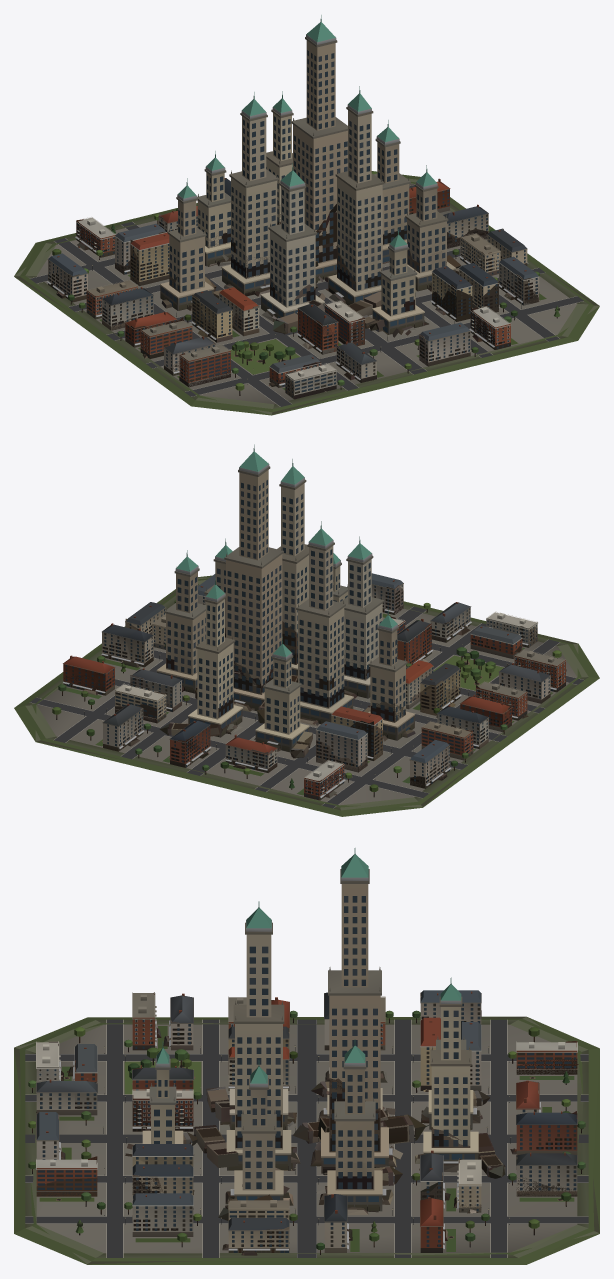
Rendered from city_ww1_metropolis_fractured.glb.
3 renders of one model, top to bottom at view 1: azimuth 30°, elevation 25°; view 2: azimuth 150°, elevation 25°; view 3: azimuth 270°, elevation 25°, orthographic. The views are drawn at different scales.
Visible parts, largest first — view 1: city_ww1_metropolis_DMG_mesh, city_ww1_metropolis_FRAC_static_mesh, city_ww1_metropolis_RUIN_LOD0_mesh, city_ww1_metropolis_RUIN_LOD2_mesh, city_ww1_metropolis_FRAC_01_mesh, city_ww1_metropolis_FRAC_34_mesh, city_ww1_metropolis_RUIN_LOD1_mesh, city_ww1_metropolis_FRAC_07_mesh, city_ww1_metropolis_FRAC_02_mesh, city_ww1_metropolis_FRAC_38_mesh, city_ww1_metropolis_FRAC_24_mesh, city_ww1_metropolis_FRAC_06_mesh (+25 smaller); view 2: city_ww1_metropolis_DMG_mesh, city_ww1_metropolis_FRAC_static_mesh, city_ww1_metropolis_RUIN_LOD0_mesh, city_ww1_metropolis_RUIN_LOD2_mesh, city_ww1_metropolis_FRAC_01_mesh, city_ww1_metropolis_FRAC_00_mesh, city_ww1_metropolis_FRAC_02_mesh, city_ww1_metropolis_FRAC_24_mesh, city_ww1_metropolis_RUIN_LOD1_mesh, city_ww1_metropolis_FRAC_29_mesh, city_ww1_metropolis_FRAC_27_mesh, city_ww1_metropolis_FRAC_04_mesh (+26 smaller); view 3: city_ww1_metropolis_FRAC_static_mesh, city_ww1_metropolis_DMG_mesh, city_ww1_metropolis_RUIN_LOD0_mesh, city_ww1_metropolis_RUIN_LOD2_mesh, city_ww1_metropolis_FRAC_01_mesh, city_ww1_metropolis_FRAC_38_mesh, city_ww1_metropolis_FRAC_07_mesh, city_ww1_metropolis_RUIN_LOD1_mesh, city_ww1_metropolis_FRAC_02_mesh, city_ww1_metropolis_FRAC_34_mesh, city_ww1_metropolis_FRAC_18_mesh, city_ww1_metropolis_FRAC_27_mesh (+22 smaller).
Part boxes in pixels (bbox=[...]): city_ww1_metropolis_DMG_mesh: bbox=[49, 91, 560, 399]; city_ww1_metropolis_FRAC_static_mesh: bbox=[14, 175, 599, 415]; city_ww1_metropolis_RUIN_LOD0_mesh: bbox=[20, 175, 593, 412]; city_ww1_metropolis_RUIN_LOD2_mesh: bbox=[14, 171, 599, 414]; city_ww1_metropolis_FRAC_01_mesh: bbox=[279, 95, 388, 204]; city_ww1_metropolis_FRAC_34_mesh: bbox=[428, 280, 557, 362]; city_ww1_metropolis_RUIN_LOD1_mesh: bbox=[57, 205, 529, 395]; city_ww1_metropolis_FRAC_07_mesh: bbox=[335, 170, 384, 244]; city_ww1_metropolis_FRAC_02_mesh: bbox=[305, 15, 337, 123]; city_ww1_metropolis_FRAC_38_mesh: bbox=[447, 204, 528, 272]; city_ww1_metropolis_FRAC_24_mesh: bbox=[140, 319, 238, 382]; city_ww1_metropolis_FRAC_06_mesh: bbox=[327, 230, 382, 305]; city_ww1_metropolis_DMG_mesh: bbox=[52, 521, 566, 800]; city_ww1_metropolis_FRAC_static_mesh: bbox=[14, 584, 599, 816]; city_ww1_metropolis_RUIN_LOD0_mesh: bbox=[17, 578, 596, 815]; city_ww1_metropolis_RUIN_LOD2_mesh: bbox=[15, 575, 599, 816]; city_ww1_metropolis_FRAC_01_mesh: bbox=[187, 545, 283, 634]; city_ww1_metropolis_FRAC_00_mesh: bbox=[226, 619, 282, 710]; city_ww1_metropolis_FRAC_02_mesh: bbox=[238, 444, 270, 552]; city_ww1_metropolis_FRAC_24_mesh: bbox=[475, 651, 565, 720]; city_ww1_metropolis_RUIN_LOD1_mesh: bbox=[57, 589, 537, 800]; city_ww1_metropolis_FRAC_29_mesh: bbox=[307, 706, 391, 767]; city_ww1_metropolis_FRAC_27_mesh: bbox=[423, 602, 537, 654]; city_ww1_metropolis_FRAC_04_mesh: bbox=[296, 599, 345, 666]; city_ww1_metropolis_FRAC_static_mesh: bbox=[14, 1017, 599, 1264]; city_ww1_metropolis_DMG_mesh: bbox=[28, 978, 585, 1255]; city_ww1_metropolis_RUIN_LOD0_mesh: bbox=[17, 994, 596, 1263]; city_ww1_metropolis_RUIN_LOD2_mesh: bbox=[14, 1010, 599, 1264]; city_ww1_metropolis_FRAC_01_mesh: bbox=[328, 967, 452, 1077]; city_ww1_metropolis_FRAC_38_mesh: bbox=[221, 1194, 348, 1252]; city_ww1_metropolis_FRAC_07_mesh: bbox=[233, 1001, 284, 1090]; city_ww1_metropolis_RUIN_LOD1_mesh: bbox=[32, 993, 581, 1251]; city_ww1_metropolis_FRAC_02_mesh: bbox=[340, 848, 369, 978]; city_ww1_metropolis_FRAC_34_mesh: bbox=[28, 1114, 151, 1232]; city_ww1_metropolis_FRAC_18_mesh: bbox=[172, 1060, 276, 1172]; city_ww1_metropolis_FRAC_27_mesh: bbox=[28, 1041, 104, 1128].
Size of the model in its own units: 366 by 220 by 366.
